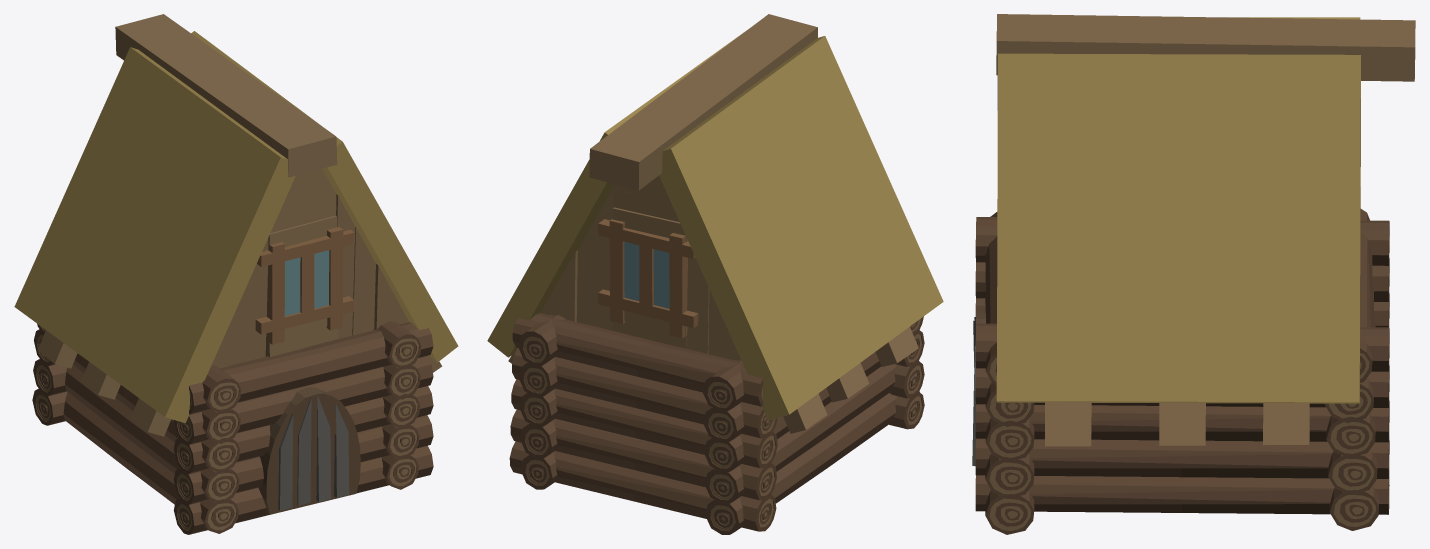
File: House low poly (Hay).fbx
The picture shows the model from 3 angles, left to right: view 1: azimuth 30°, elevation 25°; view 2: azimuth 150°, elevation 25°; view 3: azimuth 270°, elevation 25°; orthographic projection. The views are drawn at different scales.
Visible parts, largest first — view 1: Куб.009, Цилиндр, Куб; view 2: Куб.009; view 3: Куб.009.
Part boxes in pixels (x1,y1,x2,y2): Куб.009: (14, 14, 458, 534); Цилиндр: (258, 387, 360, 514); Куб: (278, 396, 349, 510); Куб.009: (487, 14, 943, 534); Куб.009: (975, 14, 1415, 534).
Bounding box in the file's own units: 1138 × 1336 × 1221.
